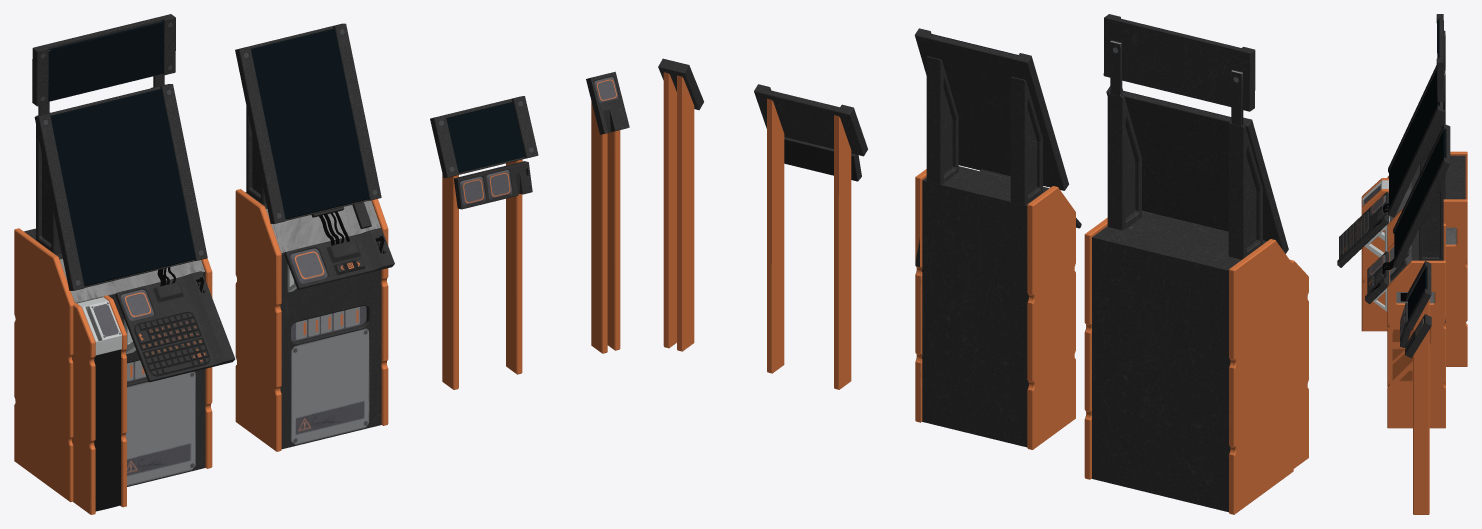
File: Terminals.fbx
3 renders of one model, left to right at view 1: azimuth 30°, elevation 25°; view 2: azimuth 150°, elevation 25°; view 3: azimuth 270°, elevation 25°, orthographic. The views are drawn at different scales.
Parts seen in each view (by area): view 1: terminal1, terminal2, terminal3, Terminal4; view 2: terminal1, terminal2, terminal3, Terminal4; view 3: terminal1, terminal2, Terminal4, terminal3.
Part boxes in pixels (x1,y1,x2,y2): terminal1: (14,14,235,514); terminal2: (235,23,394,451); terminal3: (430,96,538,389); Terminal4: (586,71,629,353); terminal1: (1084,14,1308,514); terminal2: (914,28,1081,449); terminal3: (754,84,867,389); Terminal4: (658,58,703,351); terminal1: (1337,14,1467,366); terminal2: (1365,124,1450,428); Terminal4: (1405,314,1431,514); terminal3: (1400,261,1431,348).
Size of the model in its own units: 280 by 199 by 77.34.
Materials: 1 (1 with a texture image).
